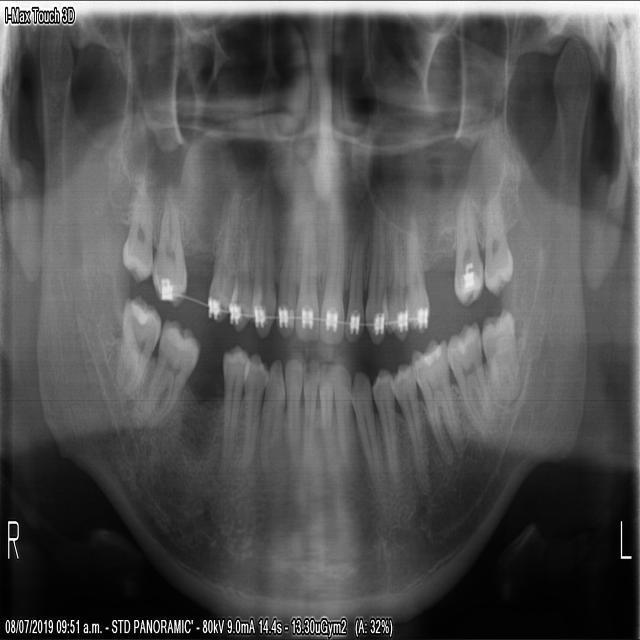LCD: (350, 369, 390, 508)
LCU: (364, 214, 386, 350)
LID: (330, 359, 359, 468), (317, 358, 335, 455)
LIU: (318, 211, 346, 345), (343, 219, 367, 347)
LMD: (408, 329, 465, 471), (447, 316, 500, 440), (479, 304, 520, 403)
LMU: (450, 187, 484, 308), (480, 196, 516, 300)
LPMD: (389, 363, 429, 497), (370, 356, 403, 488)
LPMU: (400, 223, 431, 332), (384, 224, 408, 342)
RCD: (255, 351, 283, 476)
RCU: (249, 190, 277, 341)
RID: (282, 358, 302, 455), (299, 354, 318, 447)
RIU: (291, 200, 321, 344), (274, 196, 301, 339)
RMD: (104, 281, 162, 407), (140, 308, 200, 427)
RMU: (150, 186, 185, 307)
RPMD: (216, 341, 250, 478), (234, 351, 268, 467)
RPMU: (201, 179, 241, 323), (224, 186, 257, 333)
